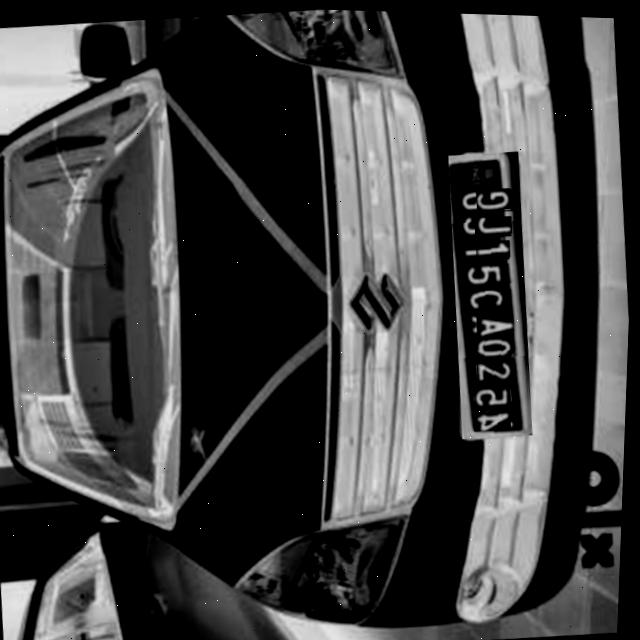0: (477, 331, 515, 355)
1: (477, 235, 512, 257)
2: (478, 356, 515, 380)
4: (477, 405, 516, 428)
5: (476, 257, 515, 282), (476, 380, 514, 404)
A: (478, 307, 517, 333)
C: (477, 284, 515, 310)
G: (476, 183, 515, 209)
IND: (470, 155, 501, 185)
Indian_registered: (449, 149, 533, 432)
J: (476, 211, 514, 234)
